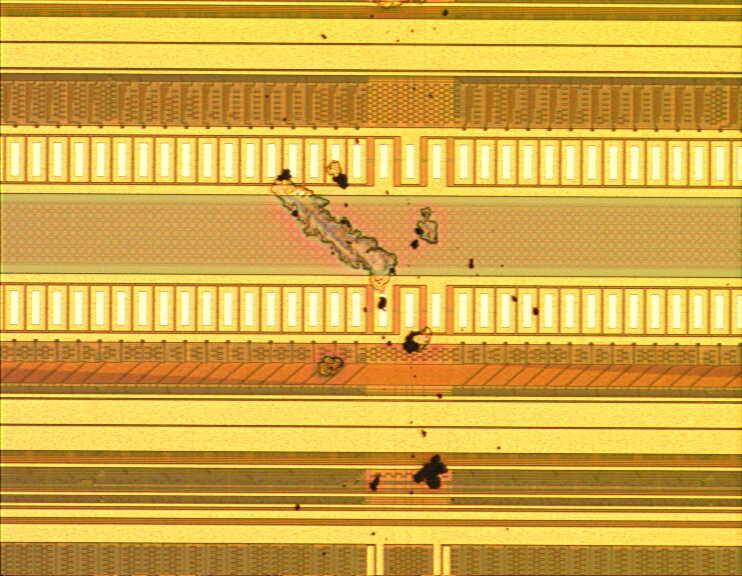PO CONTAMINATION: (266, 5, 545, 564)
